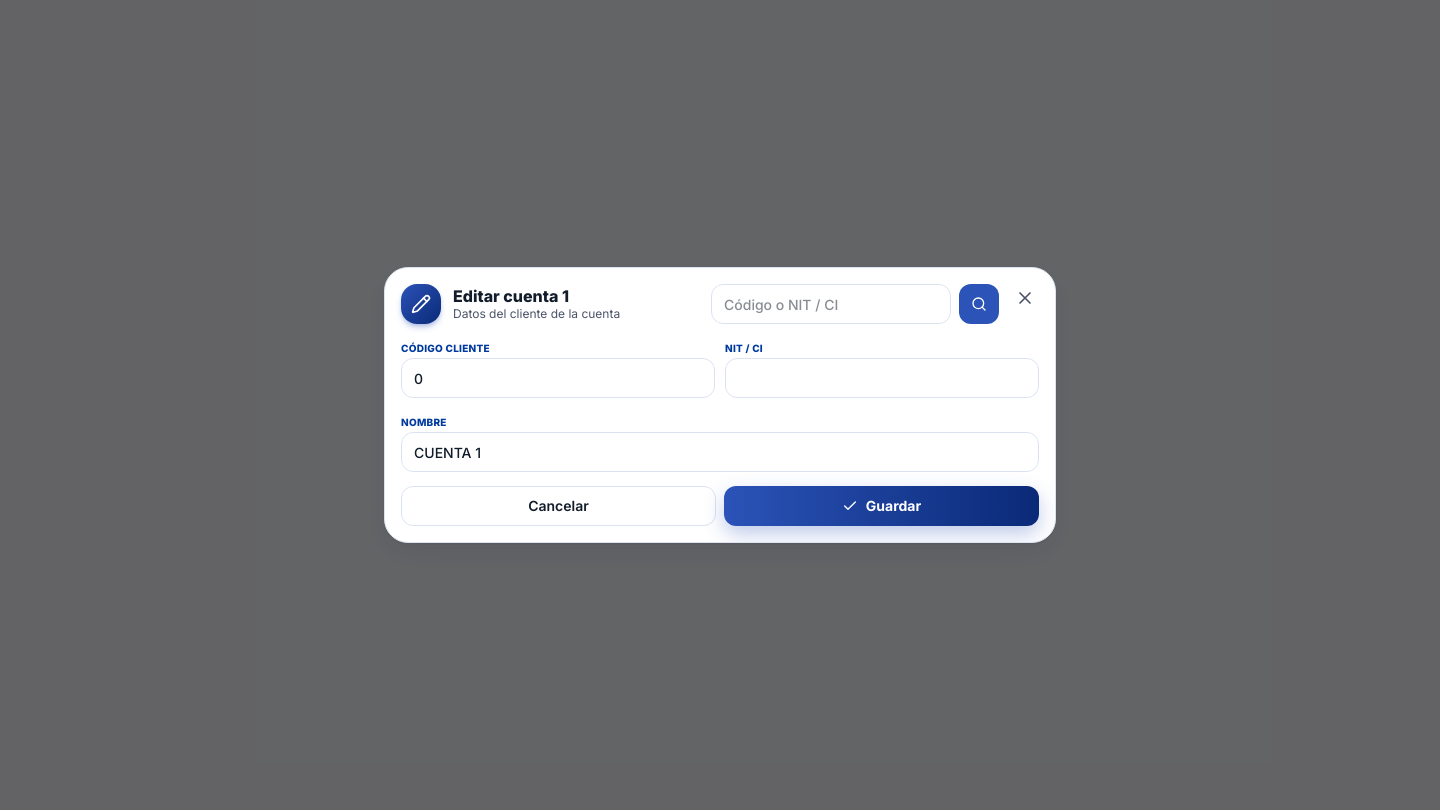
Test: EditarCuentaModal: buscar cliente › un código existente carga código, nombre y NIT
Step 1. Type "17" into the field named "Buscar cliente" → coordinates (831, 304), box [711,284,951,324]
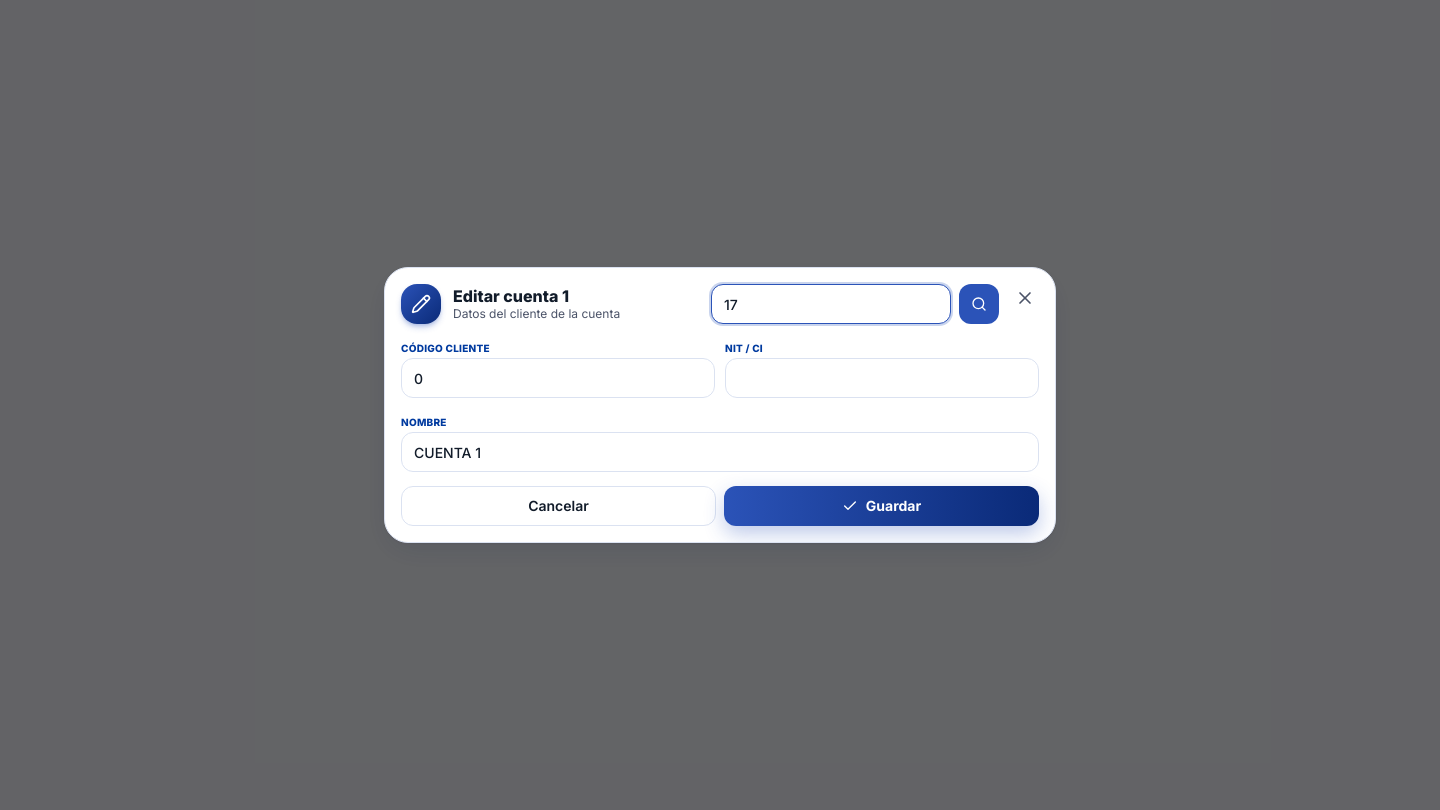
Step 2. Click the button named "Buscar" → coordinates (979, 304), box [959,284,999,324]
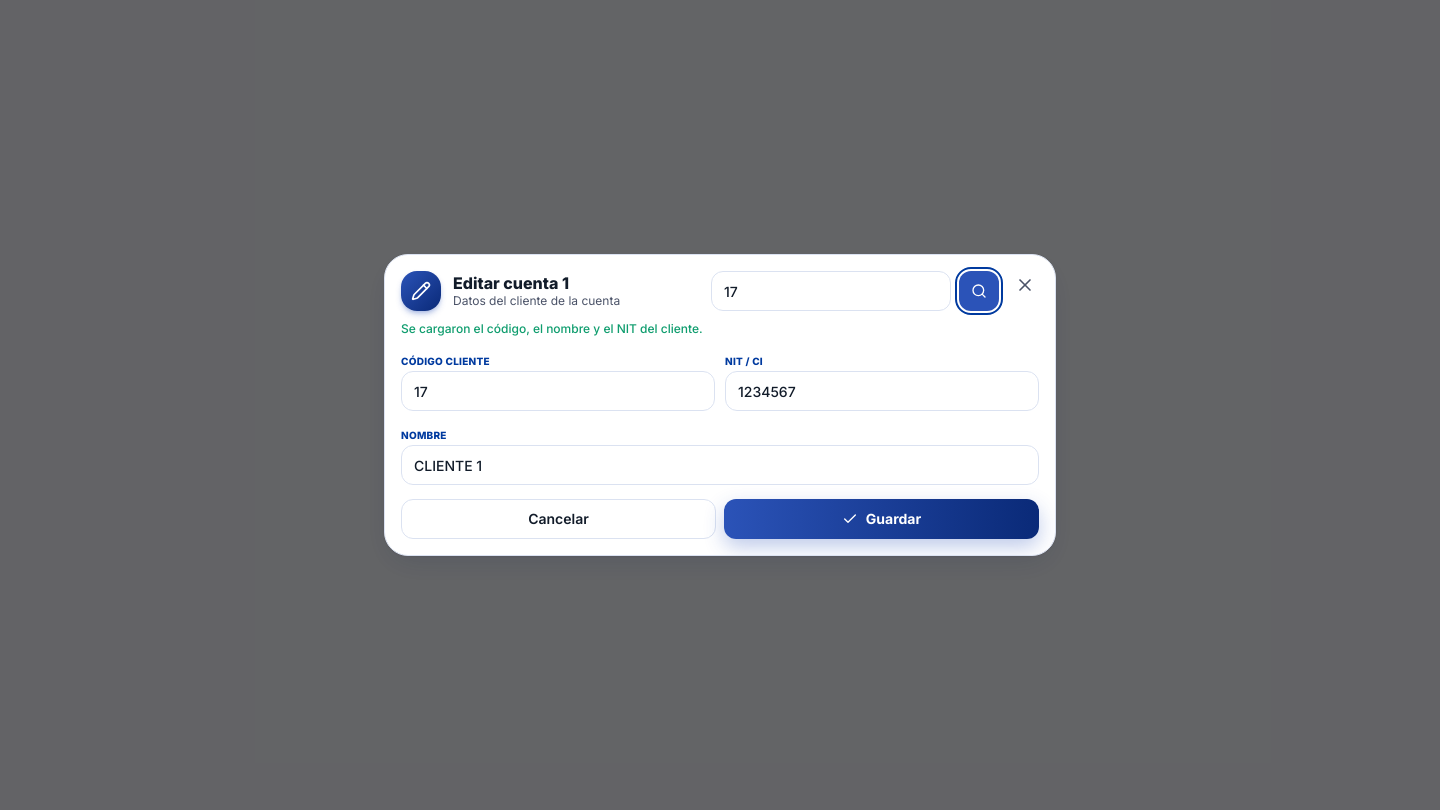
Now the text "Se cargaron el código, el nombre y el NIT del cliente." is shown, box [401,321,703,336]
Now the field showing "CLIENTE 1" is shown, box [401,445,1039,485]
Now the field showing "1234567" is shown, box [725,371,1039,411]
